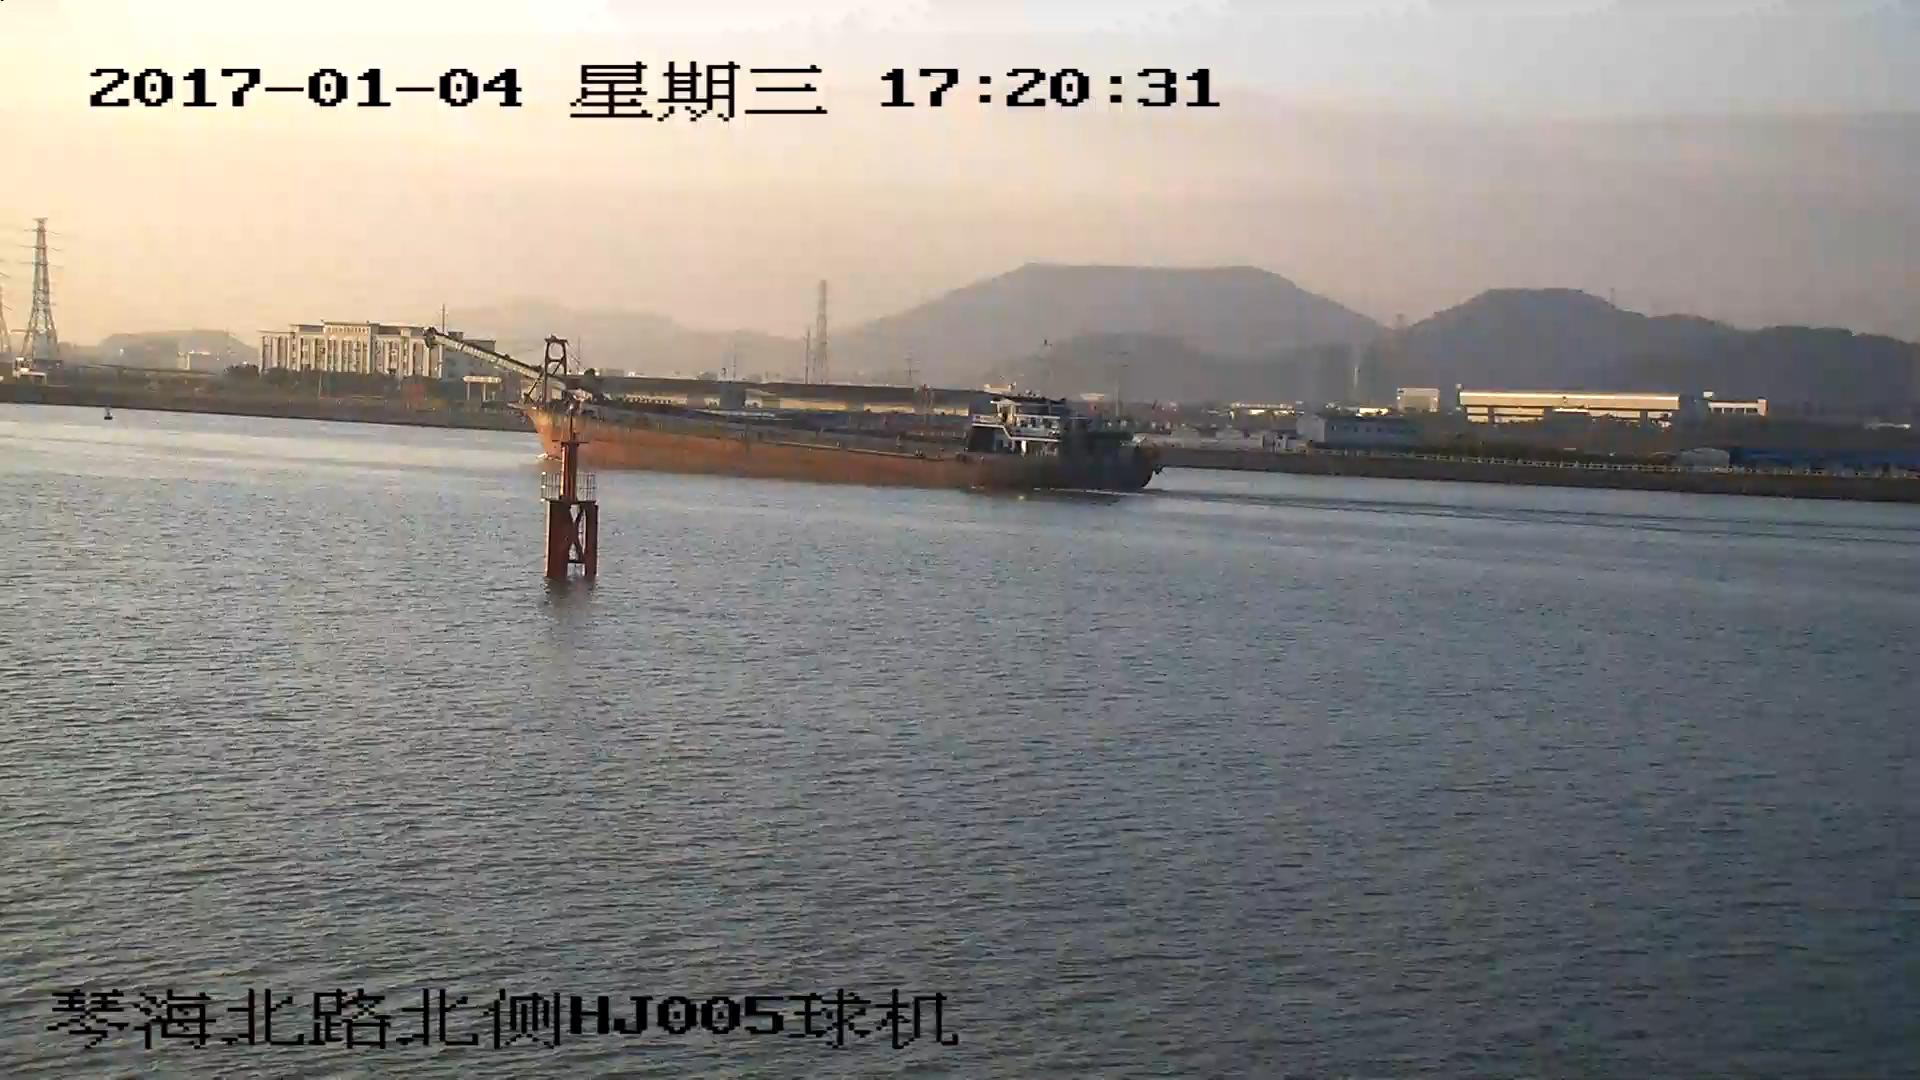bulk cargo carrier: (429, 328, 1156, 497)
